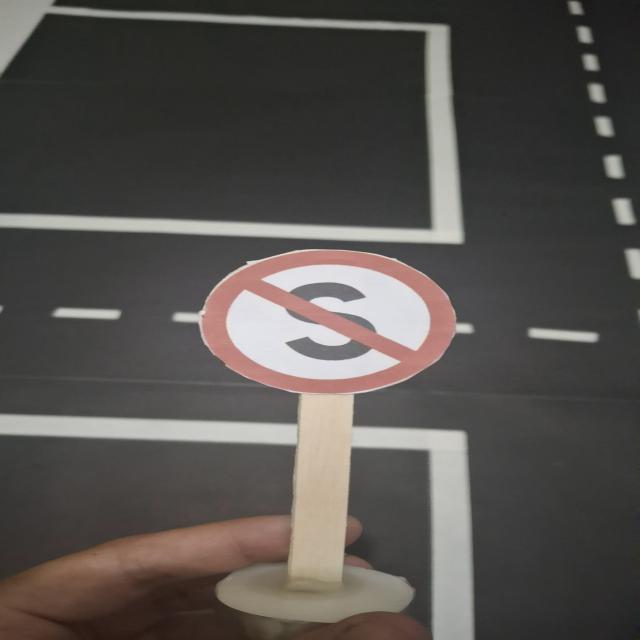Rambu Berhenti: (200, 250, 459, 394)
